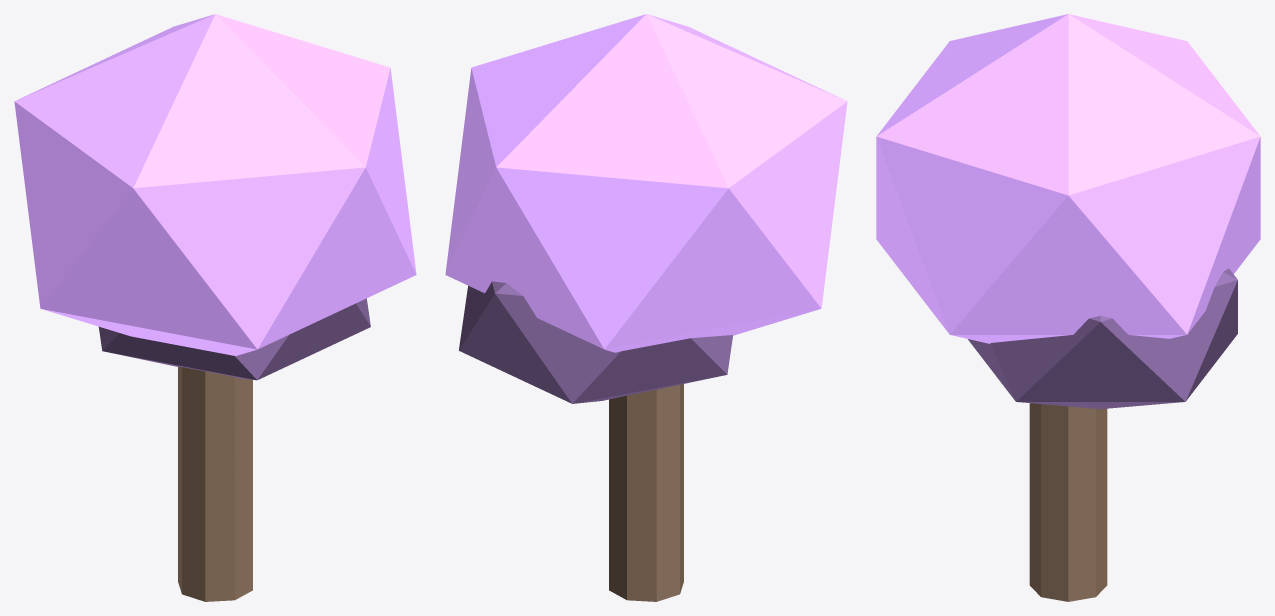
File: Deco_DreamTree.fbx
3 views of the same model, side by side, from view 1: azimuth 30°, elevation 25°; view 2: azimuth 150°, elevation 25°; view 3: azimuth 270°, elevation 25° (orthographic).
Parts seen in each view (by area): view 1: Deco_DreamTree_Crown, Deco_DreamTree_Trunk, Deco_DreamTree_CrownLower; view 2: Deco_DreamTree_Crown, Deco_DreamTree_CrownLower, Deco_DreamTree_Trunk; view 3: Deco_DreamTree_Crown, Deco_DreamTree_CrownLower, Deco_DreamTree_Trunk.
Boxes of the visible parts, left/top/right/bottom form: Deco_DreamTree_Crown: left=14, top=14, right=416, bottom=355; Deco_DreamTree_Trunk: left=178, top=367, right=252, bottom=601; Deco_DreamTree_CrownLower: left=98, top=298, right=370, bottom=380; Deco_DreamTree_Crown: left=445, top=14, right=847, bottom=352; Deco_DreamTree_CrownLower: left=459, top=281, right=732, bottom=403; Deco_DreamTree_Trunk: left=609, top=384, right=683, bottom=601; Deco_DreamTree_Crown: left=876, top=14, right=1260, bottom=343; Deco_DreamTree_CrownLower: left=968, top=268, right=1237, bottom=409; Deco_DreamTree_Trunk: left=1029, top=403, right=1107, bottom=601.
Bounding box in the file's own units: 0.6261 × 0.9775 × 0.5954.
